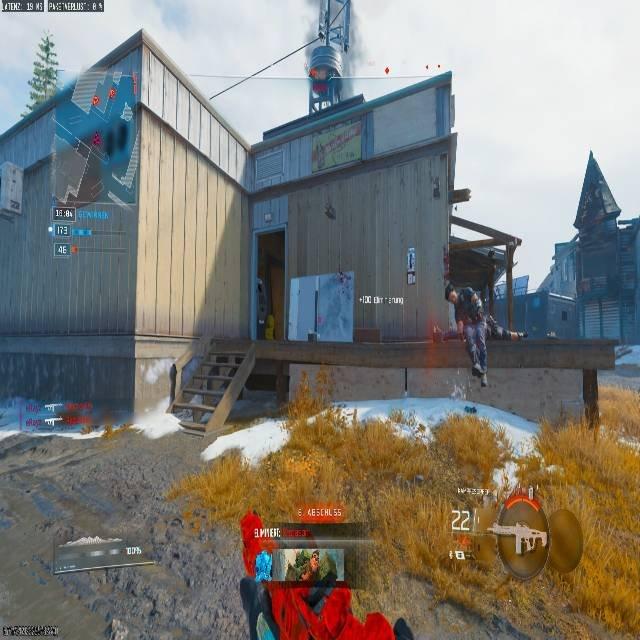player: (446, 281, 491, 387)
